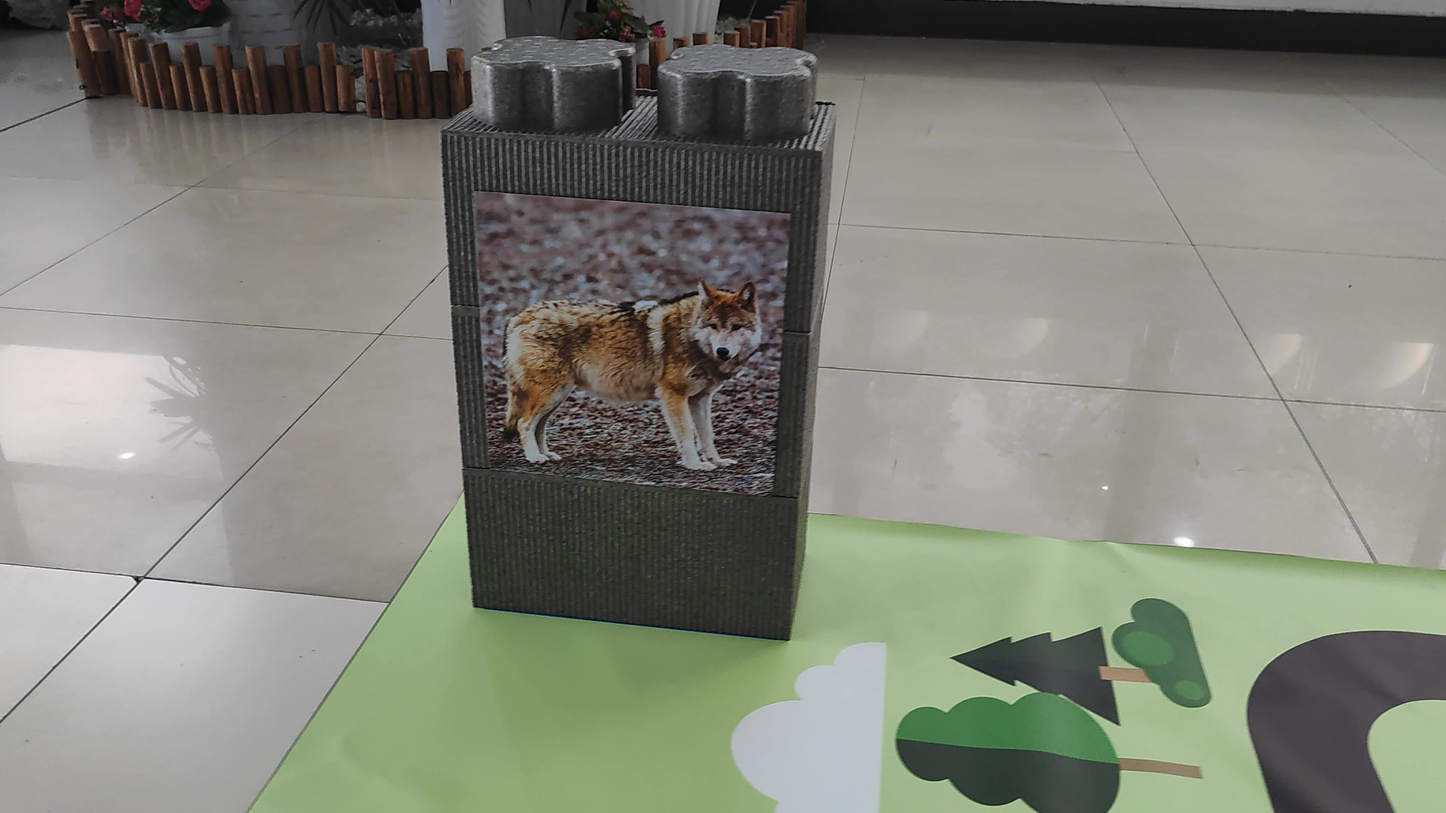wolf: (473, 257, 789, 502)
